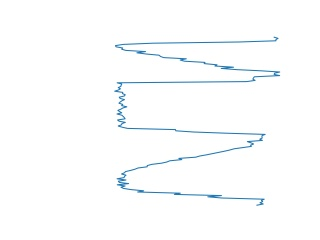distributaryChannelFill: (113, 72, 268, 145)
mouthBar: (112, 35, 283, 79)
underwaterDistributaryChannel: (115, 135, 268, 208)
